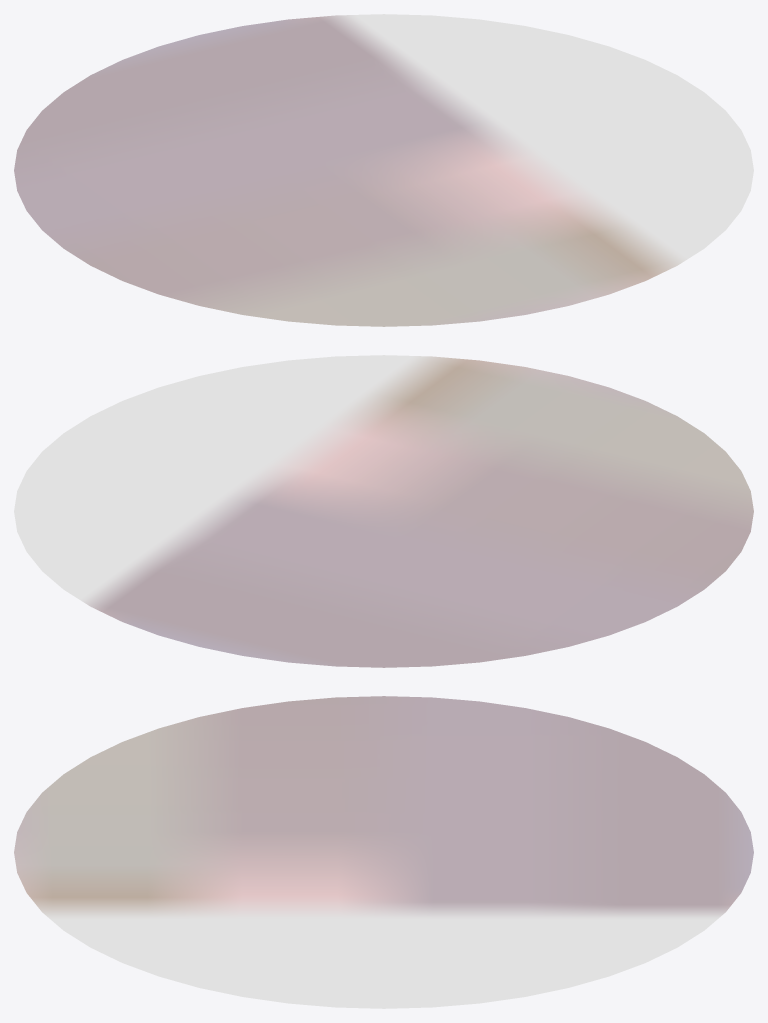
File: 1 - Pkshadow.glb
3 views of the same model, one above another, from view 1: azimuth 30°, elevation 25°; view 2: azimuth 150°, elevation 25°; view 3: azimuth 270°, elevation 25° (orthographic).
Parts seen in each view (by area): view 1: sparxie_01_skill_pkshadow_LOD0; view 2: sparxie_01_skill_pkshadow_LOD0; view 3: sparxie_01_skill_pkshadow_LOD0.
Boxes of the visible parts, bbox=[...] form: sparxie_01_skill_pkshadow_LOD0: bbox=[14, 14, 753, 326]; sparxie_01_skill_pkshadow_LOD0: bbox=[14, 355, 753, 667]; sparxie_01_skill_pkshadow_LOD0: bbox=[14, 696, 753, 1008].
Bounding box in the file's own units: 0.06 × 2.01e-06 × 0.06.
1 material, 1 textured.
